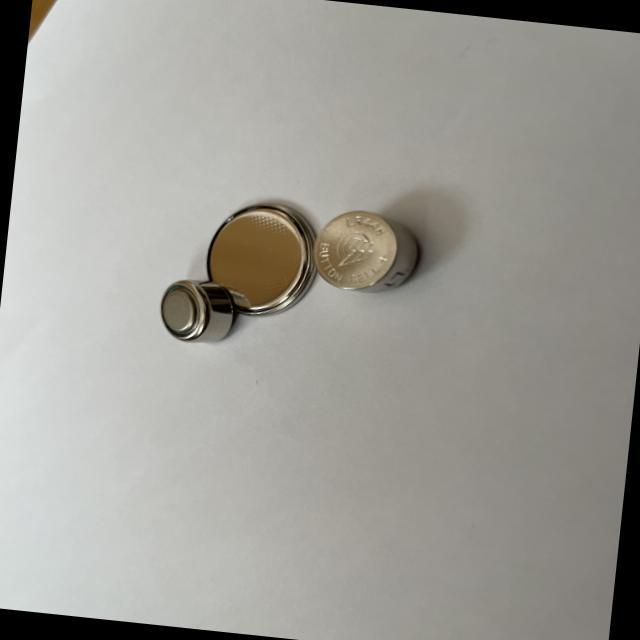COIN: (200, 196, 326, 320), (311, 206, 424, 296), (157, 274, 236, 345)
